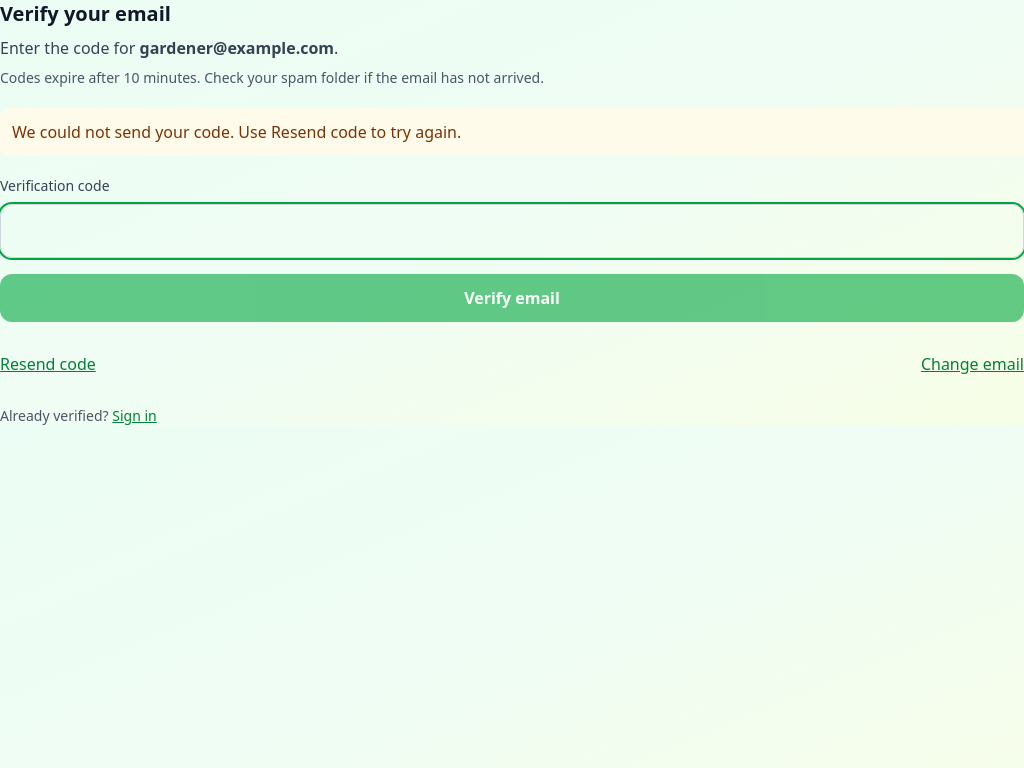
Test: reports failed delivery accurately and recovers with explicit resend
This screenshot has width=1024, height=768.
Expected: the heading "Verify your email" is shown, left=0, top=0, right=171, bottom=27
Expected: the message shows "We could not send your code", left=12, top=121, right=461, bottom=143
Click the button "Resend code". click: {"x": 48, "y": 364}
box: left=0, top=342, right=96, bottom=386
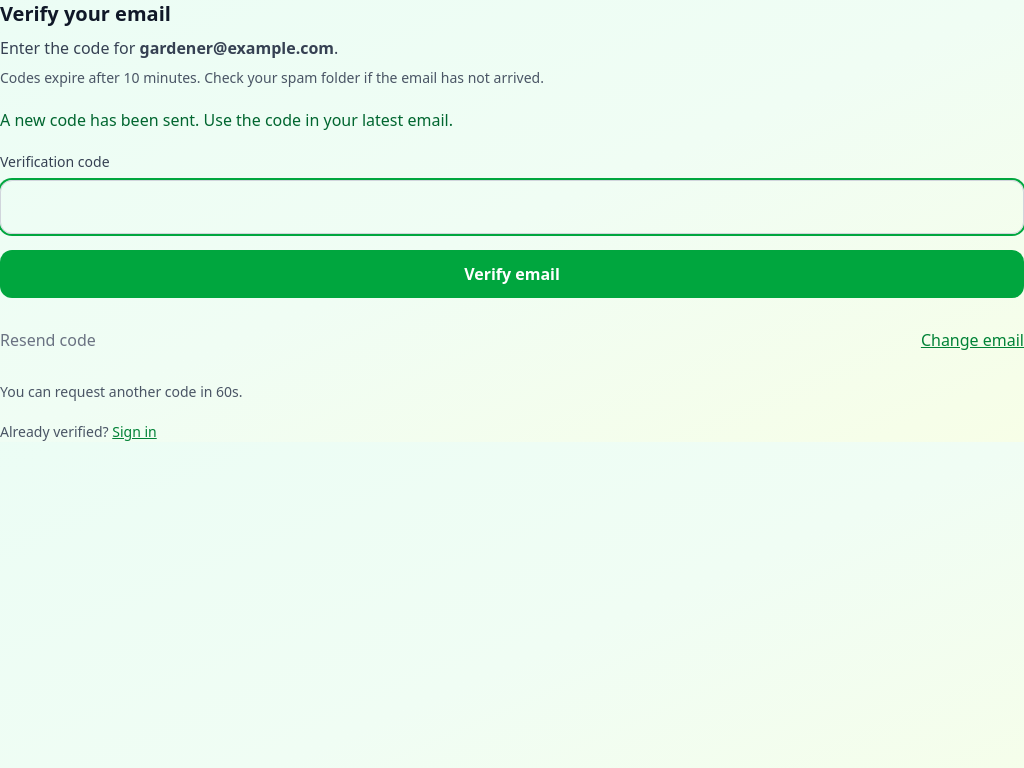
Now the text "A new code has been sent. Use the code in your latest email." is shown, box left=0, top=109, right=453, bottom=131
